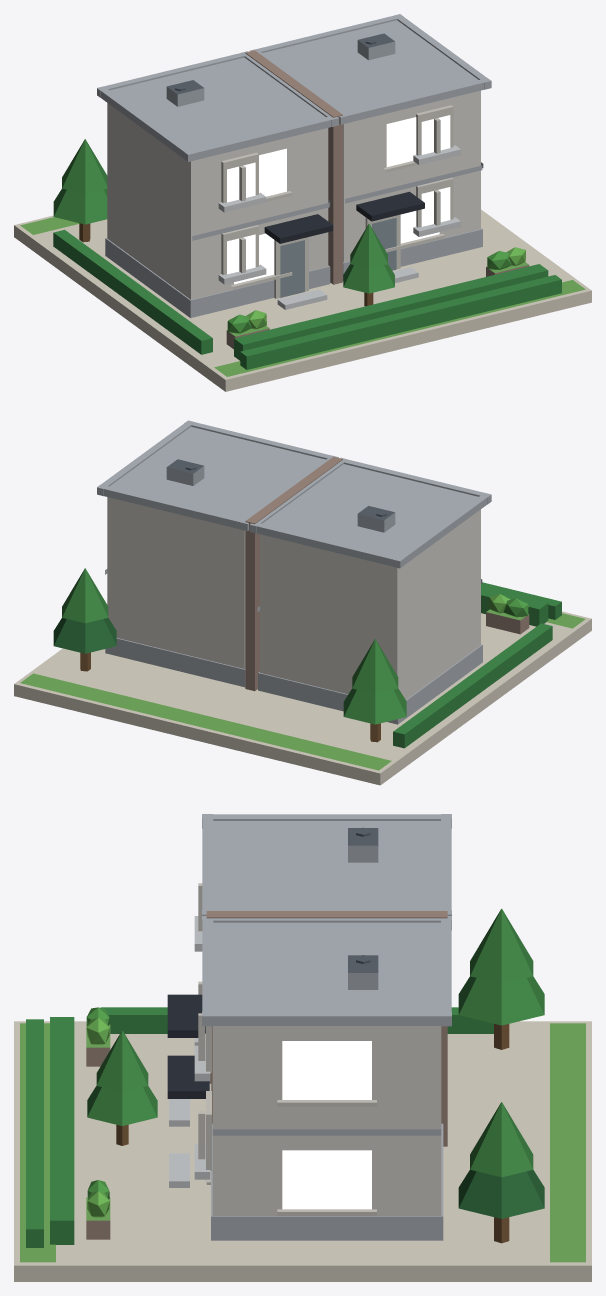
The picture shows the model from 3 angles, top to bottom: view 1: azimuth 30°, elevation 25°; view 2: azimuth 150°, elevation 25°; view 3: azimuth 270°, elevation 25°; orthographic projection. The views are drawn at different scales.
Visible parts, largest first — view 1: b04; view 2: b04; view 3: b04.
Boxes of the visible parts, bbox=[...] form: b04: bbox=[14, 14, 591, 391]; b04: bbox=[14, 420, 591, 785]; b04: bbox=[14, 814, 591, 1281].
Size of the model in its own units: 0.96 by 0.479 by 0.96.
